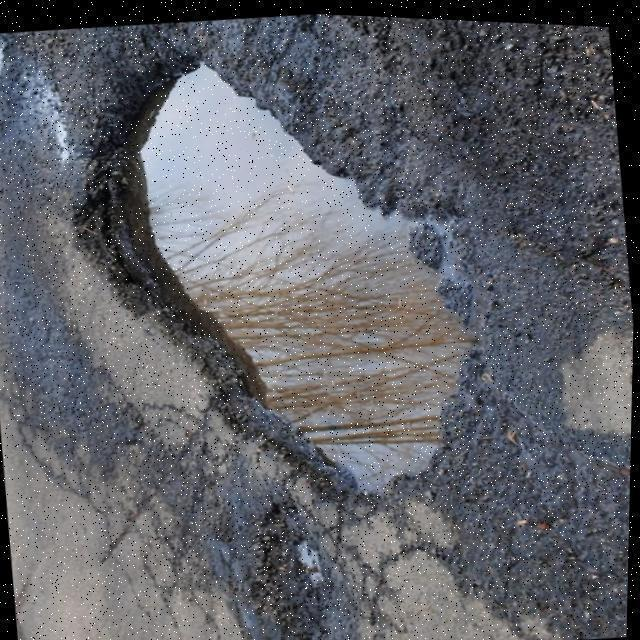Pothole: (63, 51, 476, 507), (253, 501, 334, 640), (560, 325, 631, 443)
